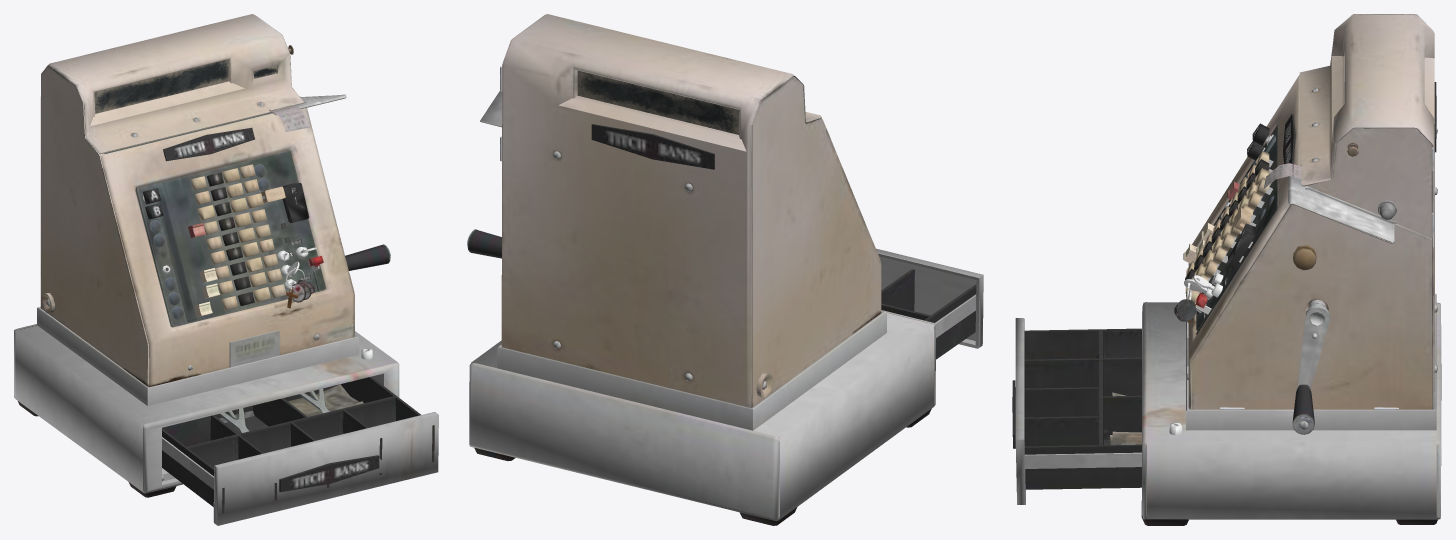
The model's file is cashregister_01.glb.
The picture shows the model from 3 angles, left to right: view 1: azimuth 30°, elevation 25°; view 2: azimuth 150°, elevation 25°; view 3: azimuth 270°, elevation 25°; orthographic projection. The views are drawn at different scales.
Parts seen in each view (by area): view 1: CashRegister_01_body, CashRegister_011_drawer; view 2: CashRegister_01_body, CashRegister_011_drawer; view 3: CashRegister_01_body, CashRegister_011_drawer.
Boxes of the visible parts, bbox=[...] form: CashRegister_01_body: bbox=[14, 14, 399, 497]; CashRegister_011_drawer: bbox=[162, 376, 438, 525]; CashRegister_01_body: bbox=[467, 14, 935, 525]; CashRegister_011_drawer: bbox=[876, 248, 983, 359]; CashRegister_01_body: bbox=[1141, 14, 1441, 525]; CashRegister_011_drawer: bbox=[1012, 318, 1141, 504].
Size of the model in its own units: 0.6004 by 0.621 by 0.6242.
Materials: 2 (2 with a texture image).
